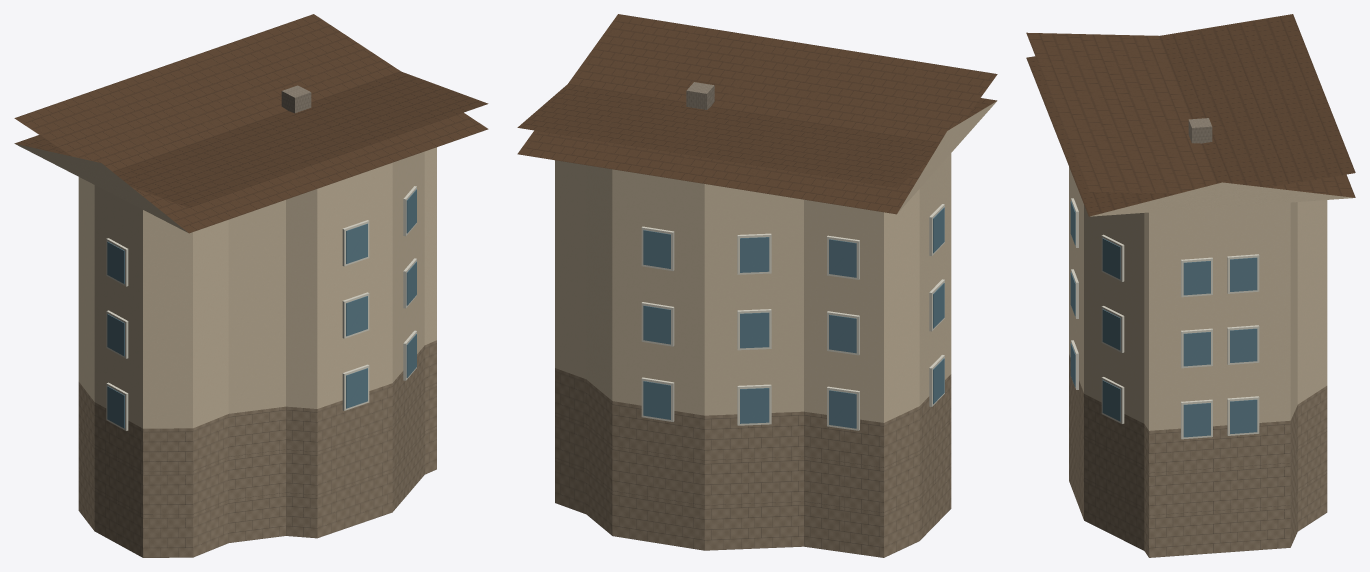
Rendered from core_0050.gltf.
3 renders of one model, left to right at view 1: azimuth 30°, elevation 25°; view 2: azimuth 150°, elevation 25°; view 3: azimuth 270°, elevation 25°, orthographic. The views are drawn at different scales.
Parts seen in each view (by area): view 1: core_0050; view 2: core_0050; view 3: core_0050.
Boxes of the visible parts, x1=… form: core_0050: x1=14, y1=14, x2=488, y2=557; core_0050: x1=517, y1=14, x2=997, y2=557; core_0050: x1=1026, y1=14, x2=1355, y2=557.
Size of the model in its own units: 15.3 by 15.25 by 11.99.
Materials: 6 (6 with a texture image).
